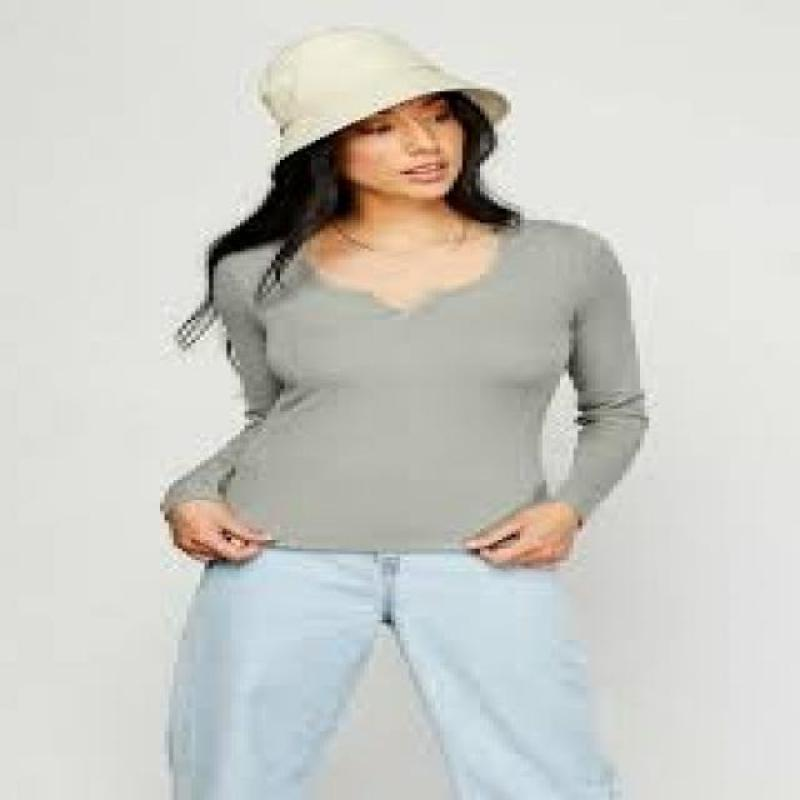long sleeve shirt: (161, 220, 651, 557)
trousers: (165, 547, 630, 800)
